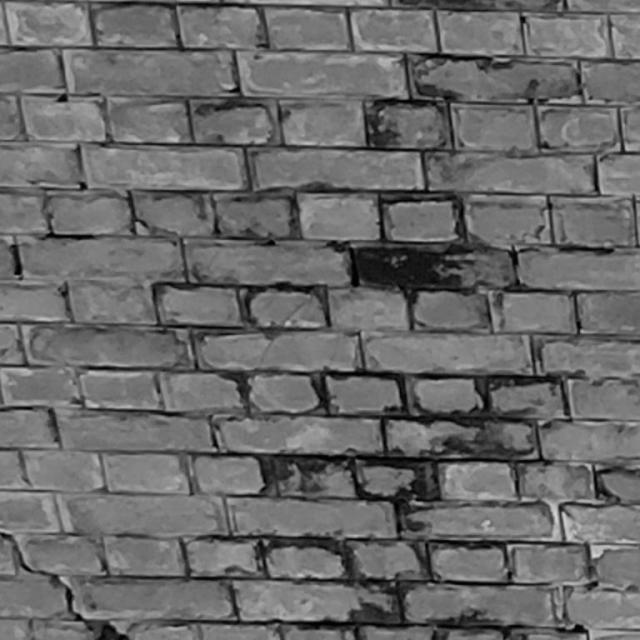crack: (0, 531, 129, 640)
